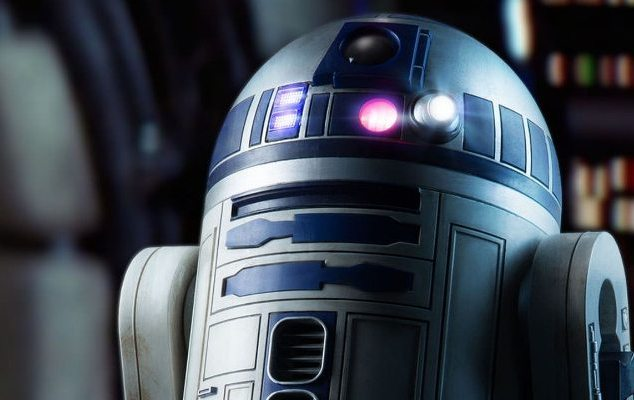r2d2: (119, 13, 631, 400)
